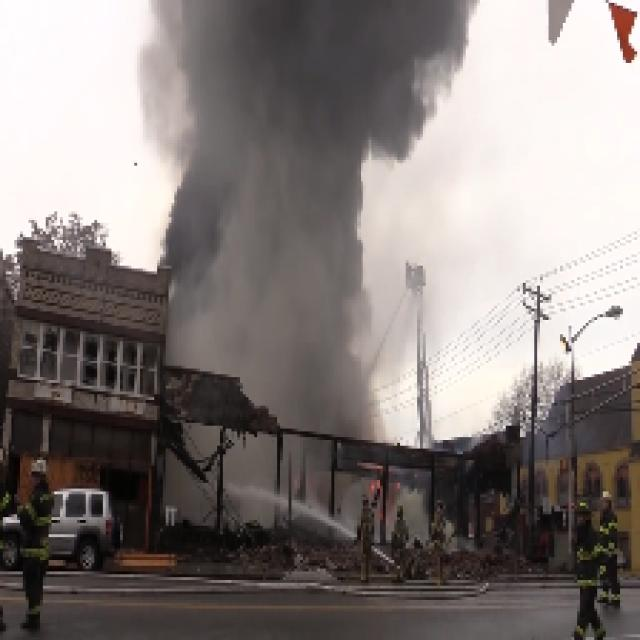smoke: (188, 6, 350, 395)
